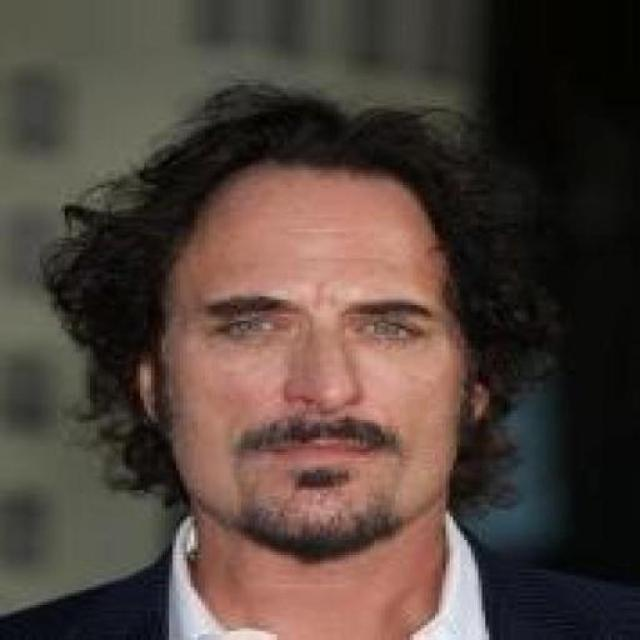bareface: (160, 110, 456, 554)
